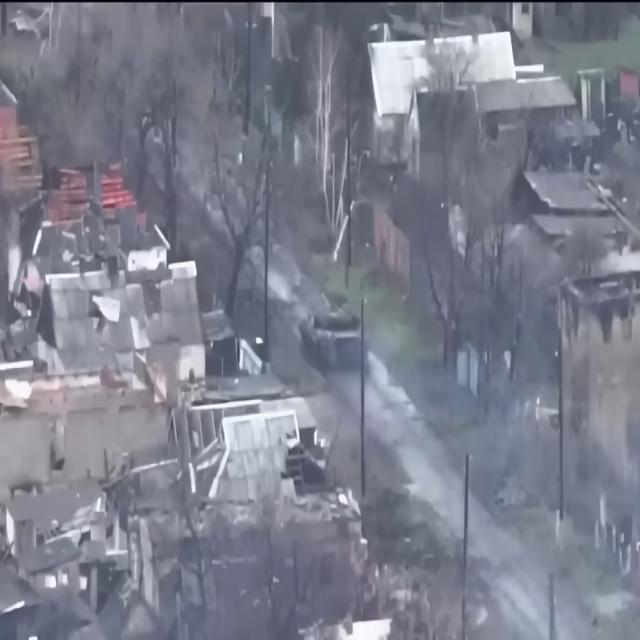MBT: (297, 290, 370, 377)
